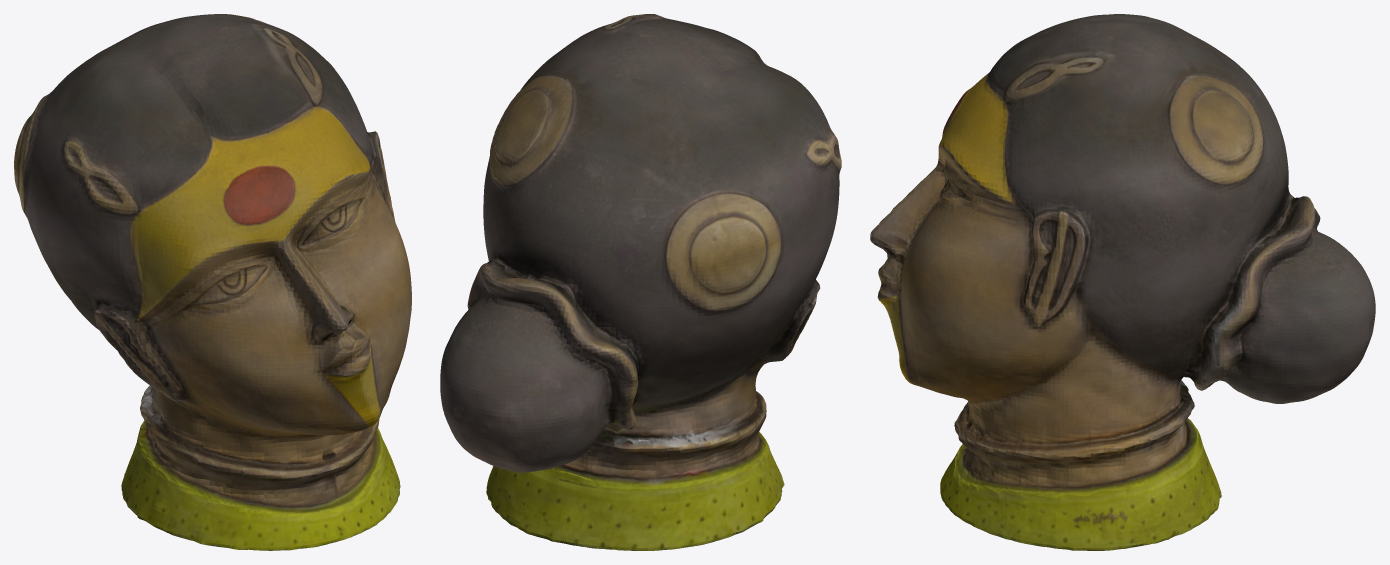
File: female-head.glb
3 views of the same model, side by side, from view 1: azimuth 30°, elevation 25°; view 2: azimuth 150°, elevation 25°; view 3: azimuth 270°, elevation 25° (orthographic). The views are drawn at different scales.
Visible parts, largest first — view 1: 05_Female_Head_Final; view 2: 05_Female_Head_Final; view 3: 05_Female_Head_Final.
Part boxes in pixels (x1,y1,x2,y2): 05_Female_Head_Final: (14, 14, 411, 550); 05_Female_Head_Final: (440, 14, 841, 550); 05_Female_Head_Final: (870, 14, 1375, 550).
Bounding box in the file's own units: 0.3643 × 0.5 × 0.5156.
Materials: 1 (1 with a texture image).
